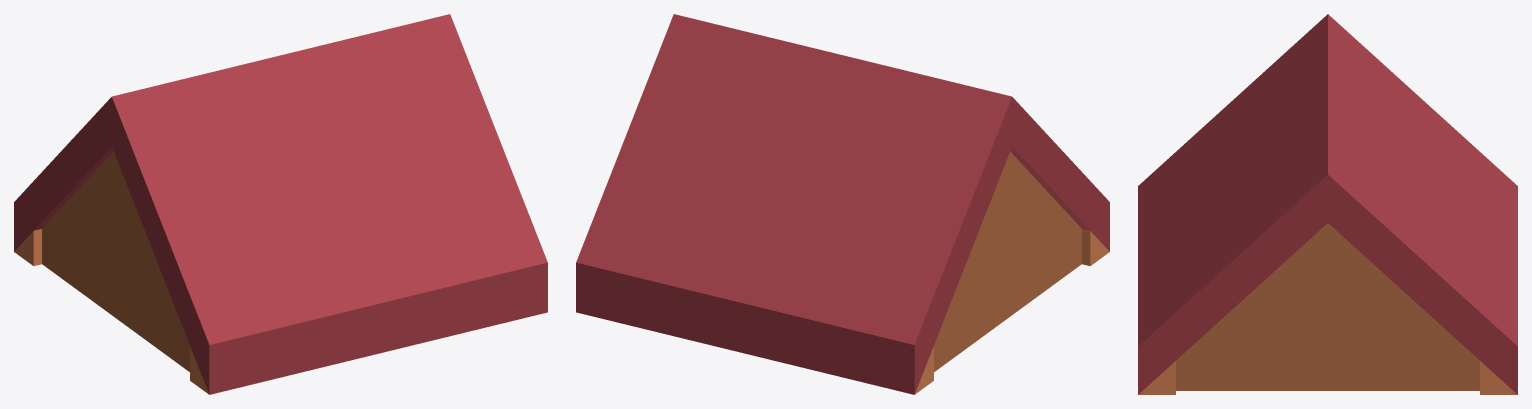
Rendered from roofHighGableTop.fbx.
3 views of the same model, side by side, from view 1: azimuth 30°, elevation 25°; view 2: azimuth 150°, elevation 25°; view 3: azimuth 270°, elevation 25° (orthographic). The views are drawn at different scales.
Parts seen in each view (by area): view 1: roofHighGableTop; view 2: roofHighGableTop; view 3: roofHighGableTop.
Boxes of the visible parts, left/top/right/bottom form: roofHighGableTop: left=14, top=14, right=547, bottom=394; roofHighGableTop: left=576, top=14, right=1109, bottom=394; roofHighGableTop: left=1138, top=14, right=1517, bottom=394.
Bounding box in the file's own units: 10 × 6.41 × 10.
